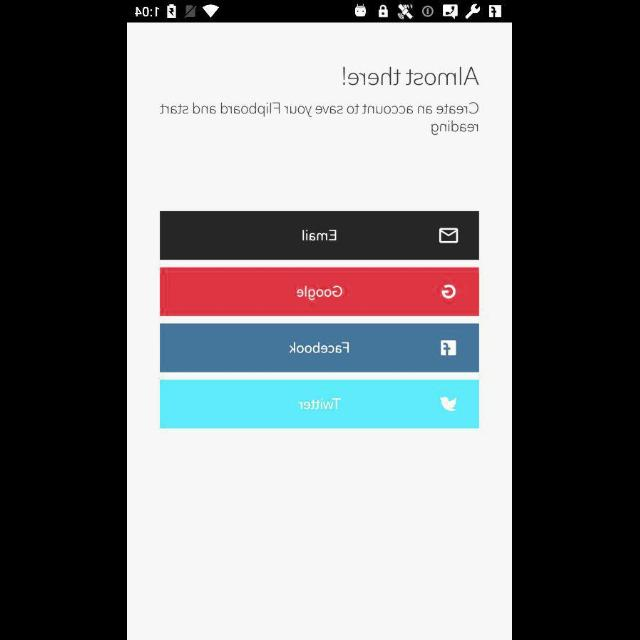text: (160, 102, 480, 136), (342, 67, 480, 87)
textbutton: (160, 379, 480, 428), (160, 323, 480, 372), (160, 268, 480, 316), (160, 212, 480, 260)
uppertaskbar: (128, 1, 512, 23)
